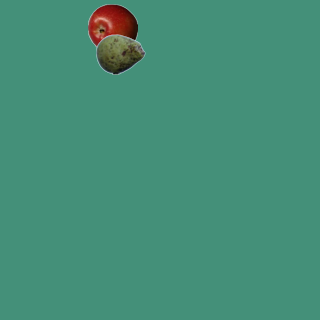Apple Braeburn: (87, 3, 137, 53)
Pear Stone: (95, 29, 145, 79)
